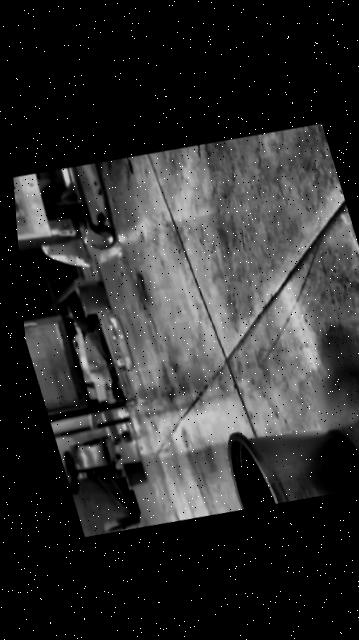pot: (216, 406, 359, 519)
